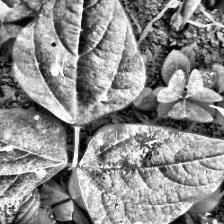Bean Rust: (12, 0, 144, 121), (75, 122, 224, 223), (0, 103, 71, 206)
